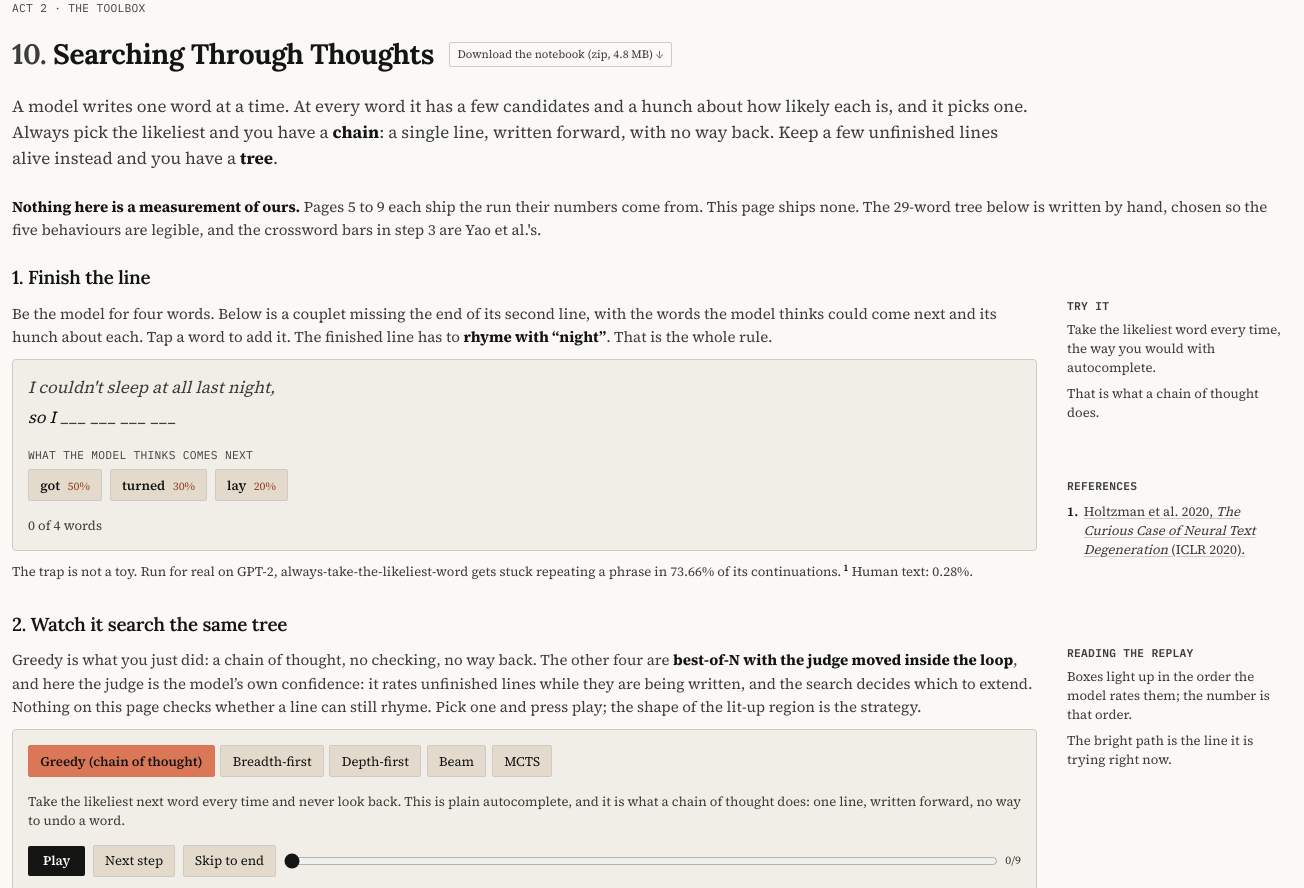
Test: Page 10 — step 2, the replay › narrates breadth-first as a column-by-column sweep
The image size is (1304, 888).
Click the button "Breadth-first": coordinates (272, 761) [220,745,324,777]
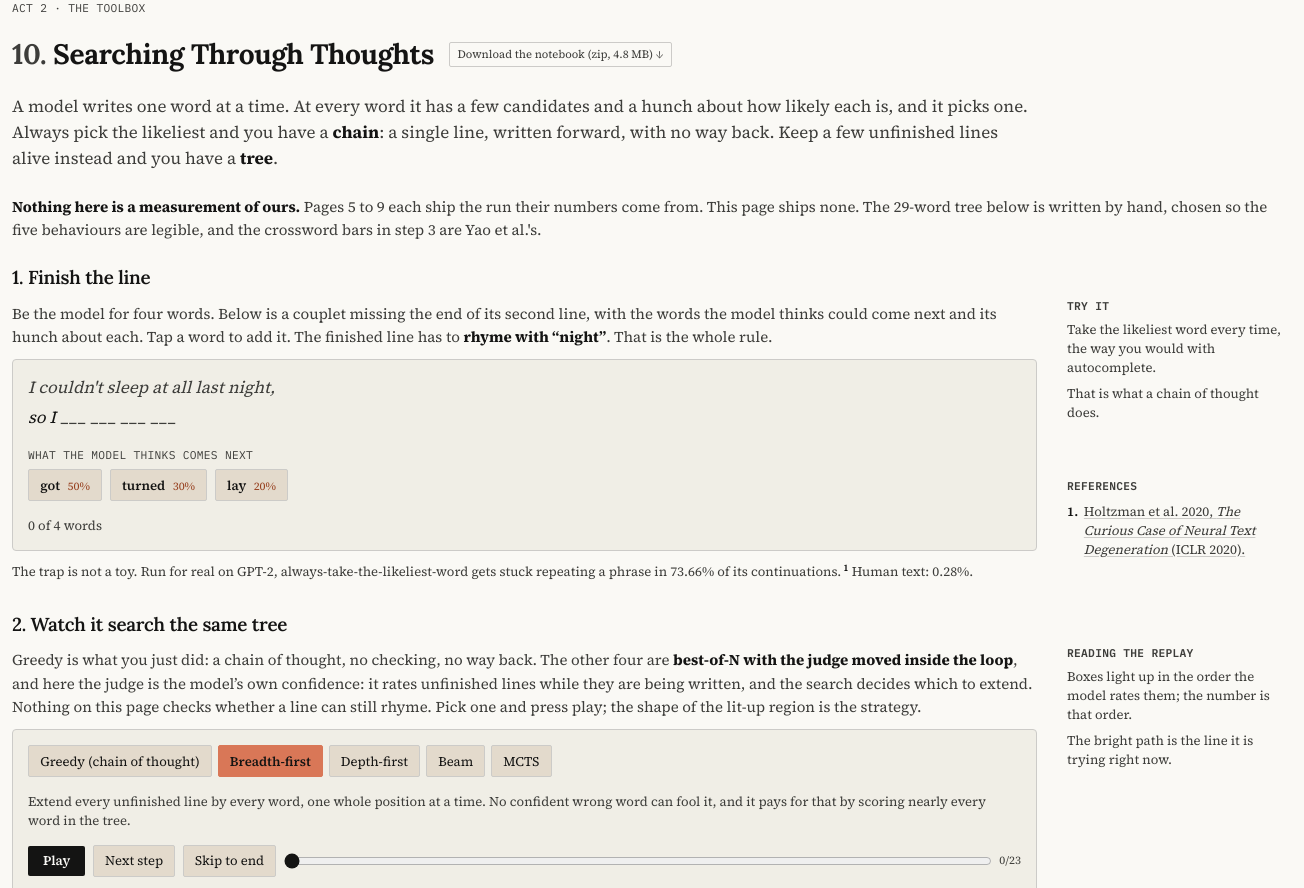
Set the slider named "search step" to "4": coordinates (412, 861) [284,853,992,869]
(page scrolled)
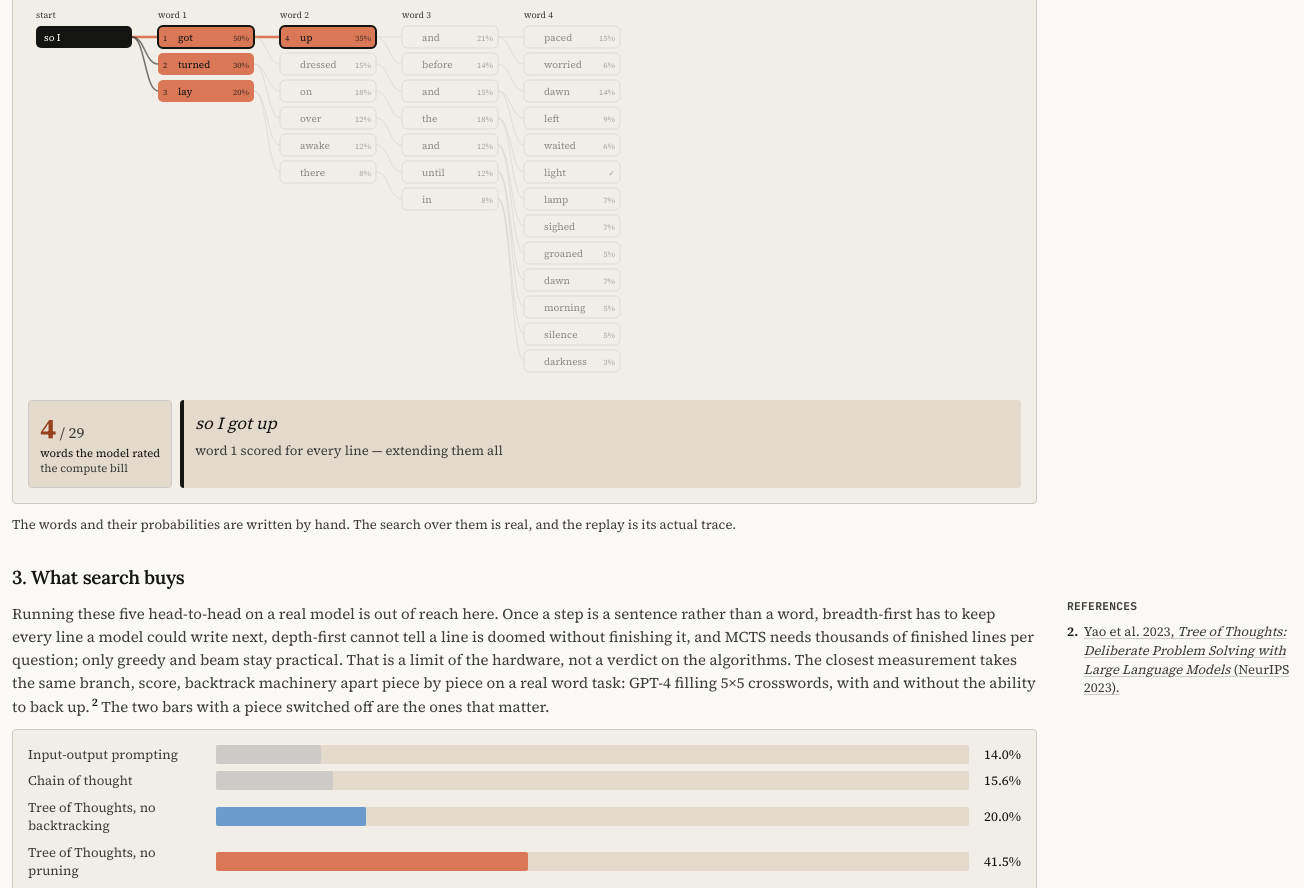
Now the text "word 1 scored for every line — extending them all" is shown, box [195,441,503,459]
